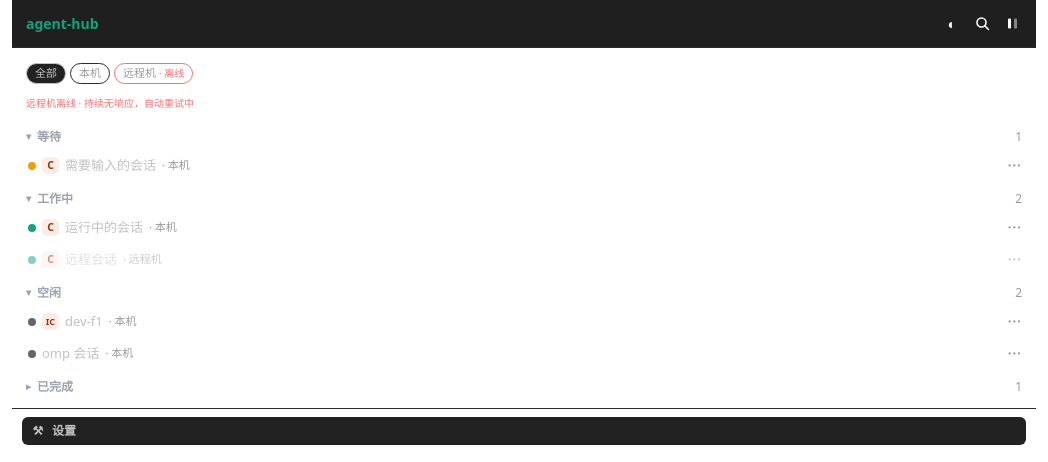
Test: 侧栏去节点分组渲染（G1-G4） › G2 切节点过滤：选离线节点只显其会话（行置灰），选全部恢复
Check: the text "远程会话" is shown, box x1=65 y1=250 x2=117 y2=269
# 选远程节点 chip → 只显该节点会话
Click the button with class "node-chip" showing "远程机 · 离线": {"x": 154, "y": 73} x1=114 y1=63 x2=193 y2=84
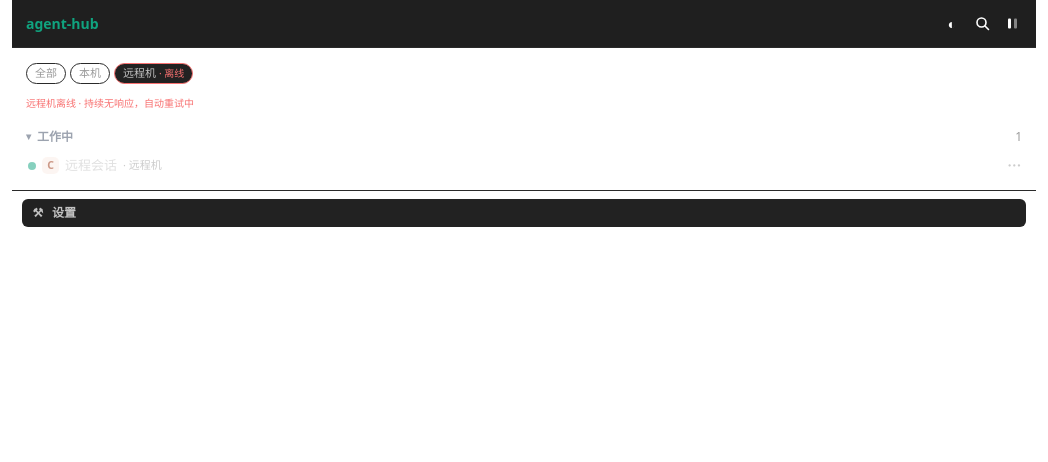
Check: the text "远程会话" is shown, box x1=65 y1=156 x2=117 y2=175
Check: the button "运行中的会话" is gone
Click the button "全部": {"x": 46, "y": 73} x1=26 y1=63 x2=66 y2=84
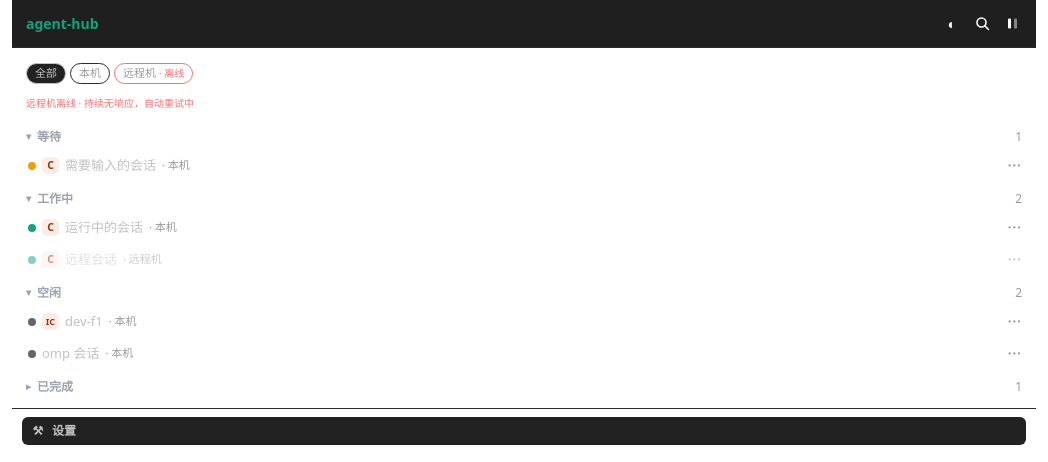
Check: the element with class "agent-row-wrap" showing "C 远程会话 · 远程机 ⋯" is shown, box x1=20 y1=244 x2=1028 y2=276
Check: the text "运行中的会话" is shown, box x1=65 y1=218 x2=143 y2=237
